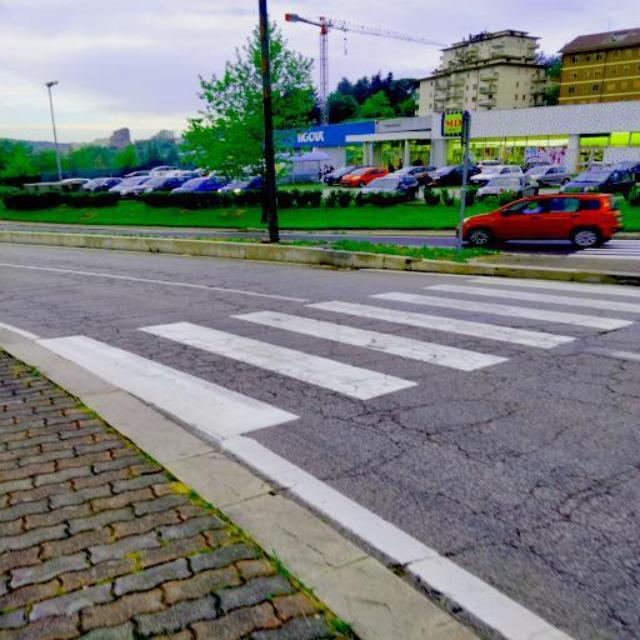sidewalk: (35, 273, 637, 444)
